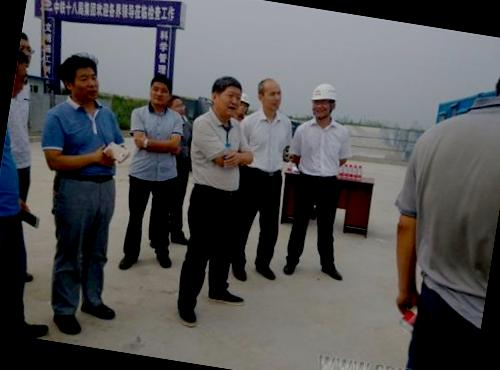no_helmet: (53, 47, 106, 107), (205, 72, 247, 121), (252, 73, 288, 118), (143, 70, 175, 112), (163, 92, 192, 121)
